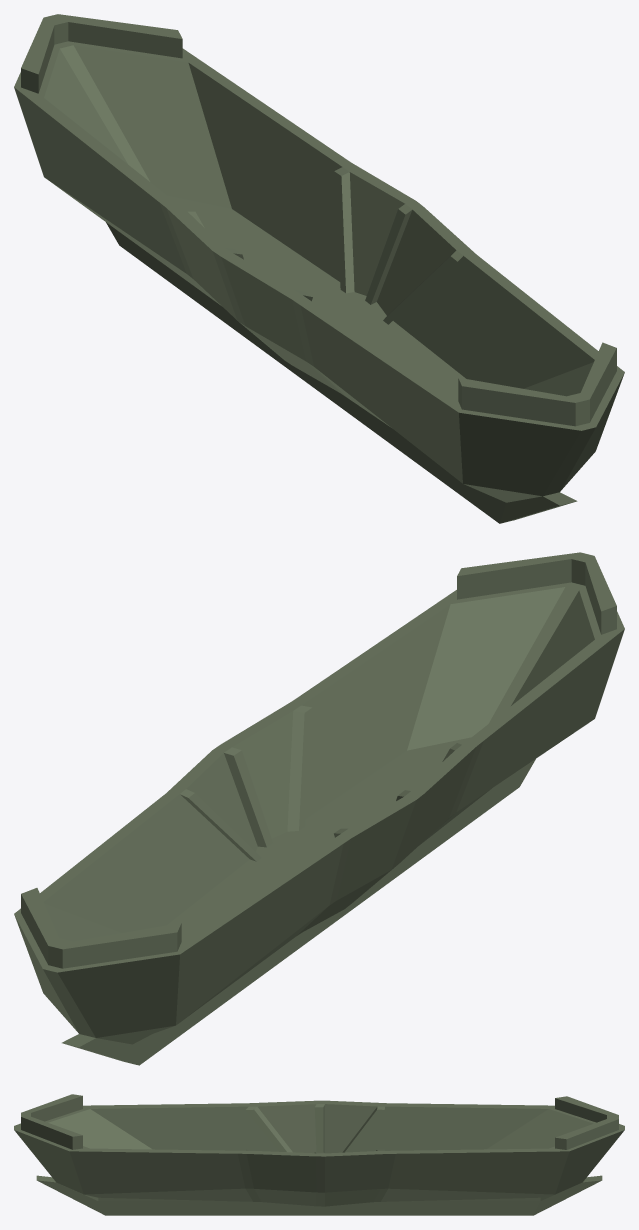
File: smallboat.fbx
The picture shows the model from 3 angles, top to bottom: view 1: azimuth 30°, elevation 25°; view 2: azimuth 150°, elevation 25°; view 3: azimuth 270°, elevation 25°; orthographic projection. The views are drawn at different scales.
Parts seen in each view (by area): view 1: BoatSmall; view 2: BoatSmall; view 3: BoatSmall.
Boxes of the visible parts, x1=… form: BoatSmall: x1=14, y1=14, x2=624, y2=523; BoatSmall: x1=14, y1=552, x2=624, y2=1065; BoatSmall: x1=14, y1=1094, x2=624, y2=1215.
Bounding box in the file's own units: 54.87 × 45.24 × 253.
